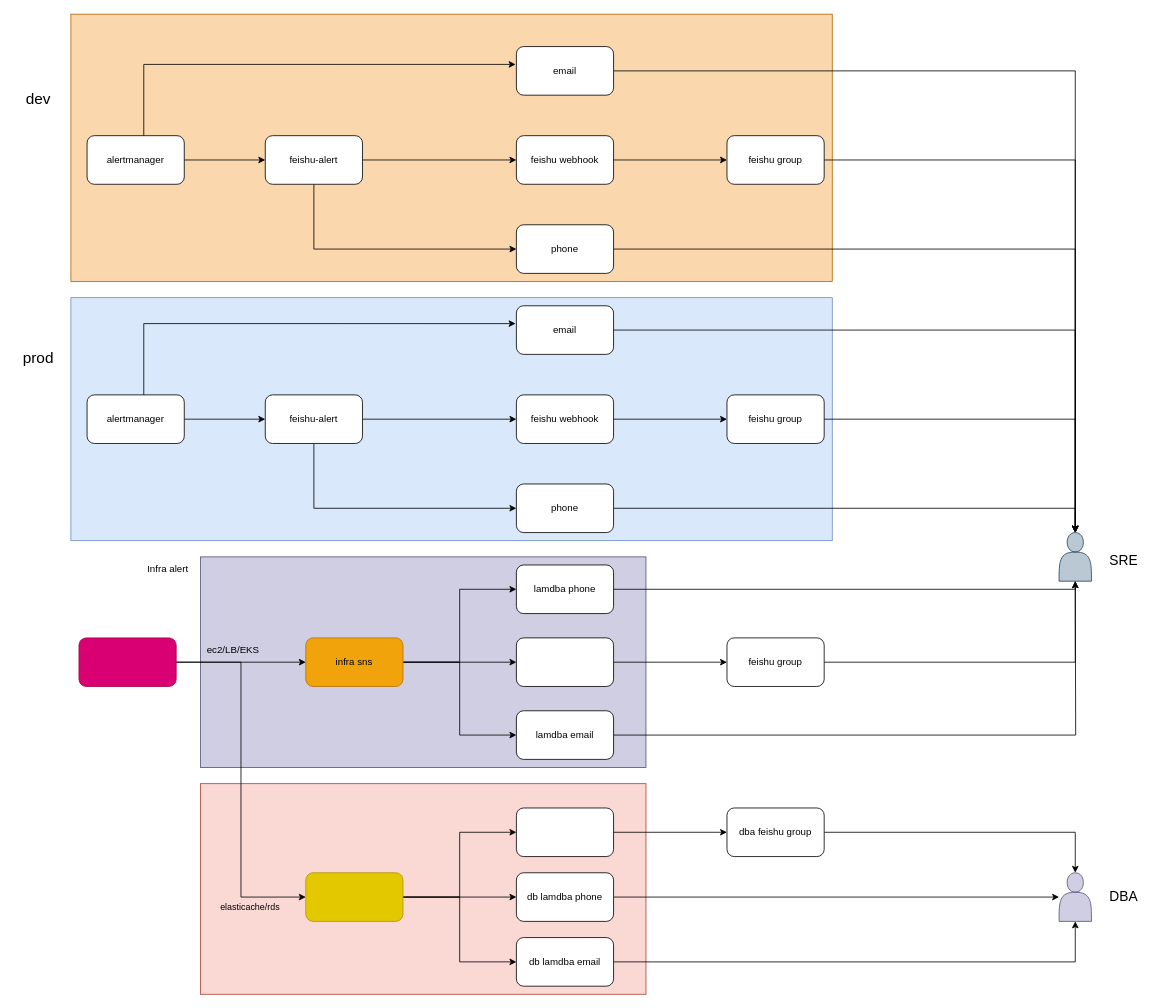
Some shapes in this 1162 by 1008 pixel diagram are drawn without their labels. Each missing label, with the box of its shape:
cloud watch: (78, 637, 176, 686)
db lamdba feishu: (516, 807, 614, 857)
db sns: (305, 872, 403, 921)
lamdba feishu: (516, 637, 614, 686)
